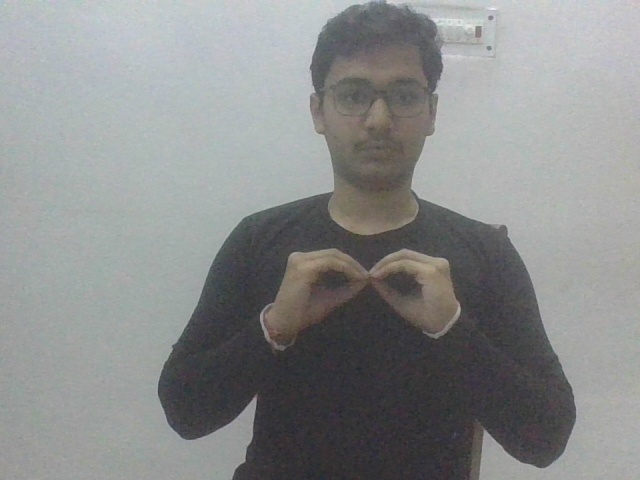B: (270, 245, 459, 338)
